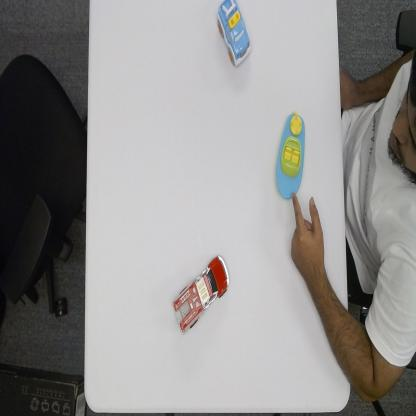Arm: (312, 268, 350, 380)
Boat: (274, 108, 307, 201)
Car: (216, 0, 251, 68)
Firetruck: (171, 253, 230, 337)
Hand: (289, 190, 324, 282)
